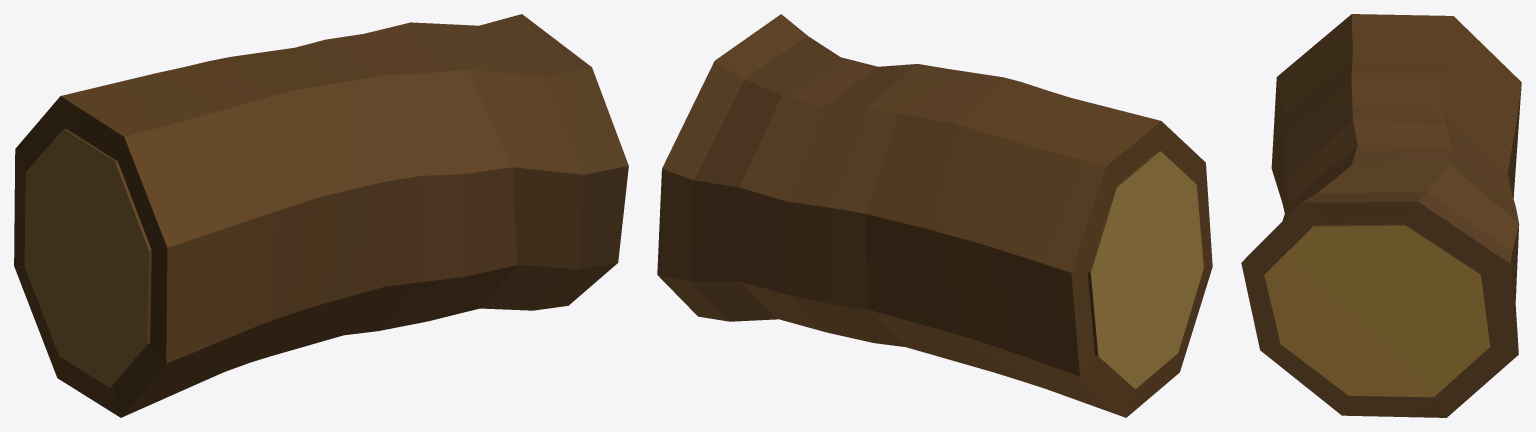
The model's file is ResourcesLog.fbx.
The picture shows the model from 3 angles, left to right: view 1: azimuth 30°, elevation 25°; view 2: azimuth 150°, elevation 25°; view 3: azimuth 270°, elevation 25°; orthographic projection. The views are drawn at different scales.
Parts seen in each view (by area): view 1: ResourcesLog; view 2: ResourcesLog; view 3: ResourcesLog.
Boxes of the visible parts, x1,y1,x2,y2 form: ResourcesLog: [14, 14, 628, 417]; ResourcesLog: [657, 14, 1212, 417]; ResourcesLog: [1241, 14, 1521, 417].
Size of the model in its own units: 55.2 by 32.2 by 35.17.
